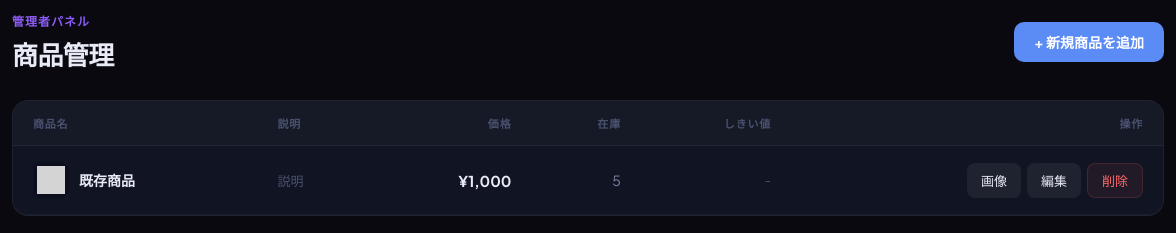
Test: AdminProductsView › deletes a product via deleteProduct
Expected: the text "既存商品" is shown, [79,170,135,190]
Click the button "削除" at point(1115, 180), box [1087,162,1143,198]
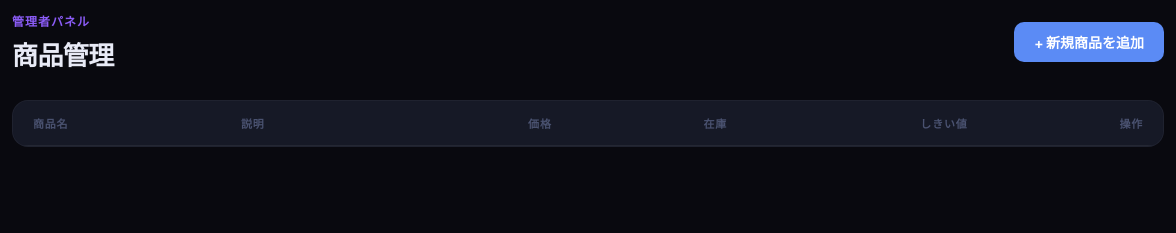
Result: the text "既存商品" is gone
